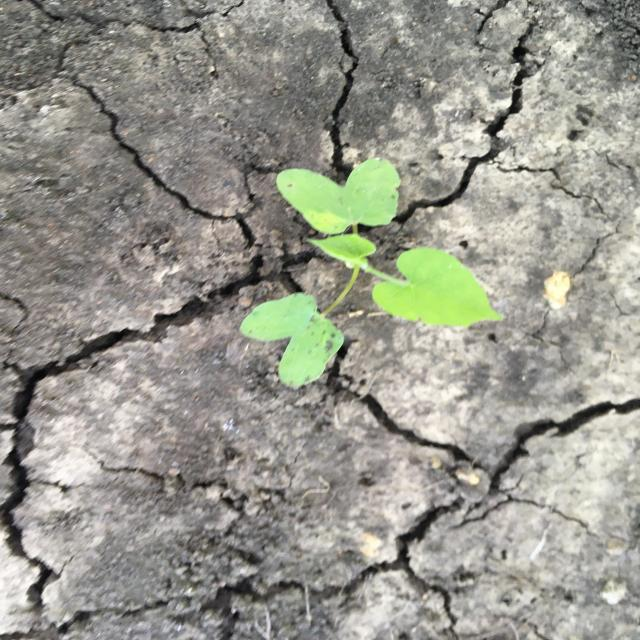MorningGlory: (237, 157, 508, 390)
